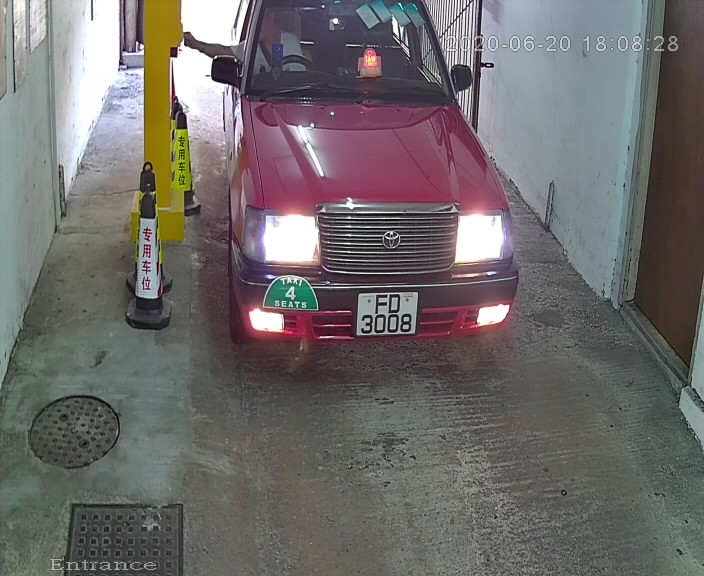taxi: (197, 2, 538, 387)
taxi_mark: (258, 263, 324, 325)
